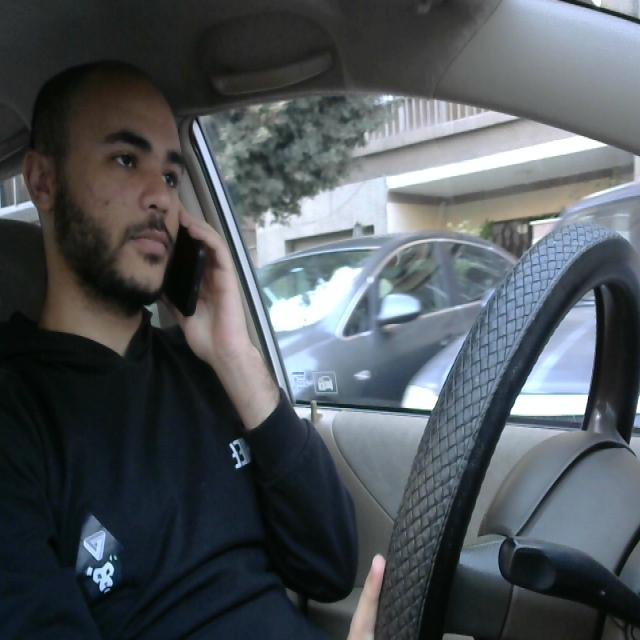mobile use: (146, 210, 209, 325)
